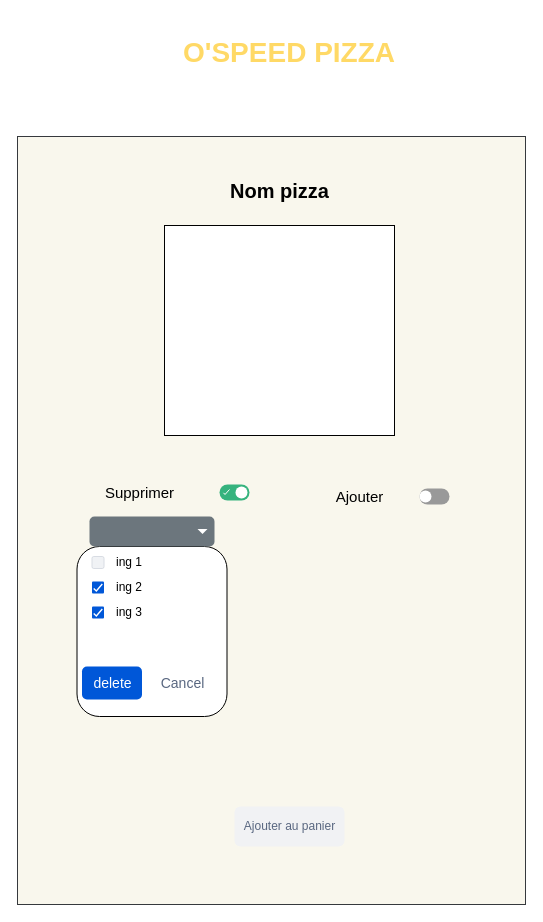
The diagram is 543 pixels wide and 922 high, and some of its shapes have lost their labels. The centre of each missing label's shape, as x and y in pixels:
Ingredients: the point at 151,531
Photo pizza: the point at 279,330
